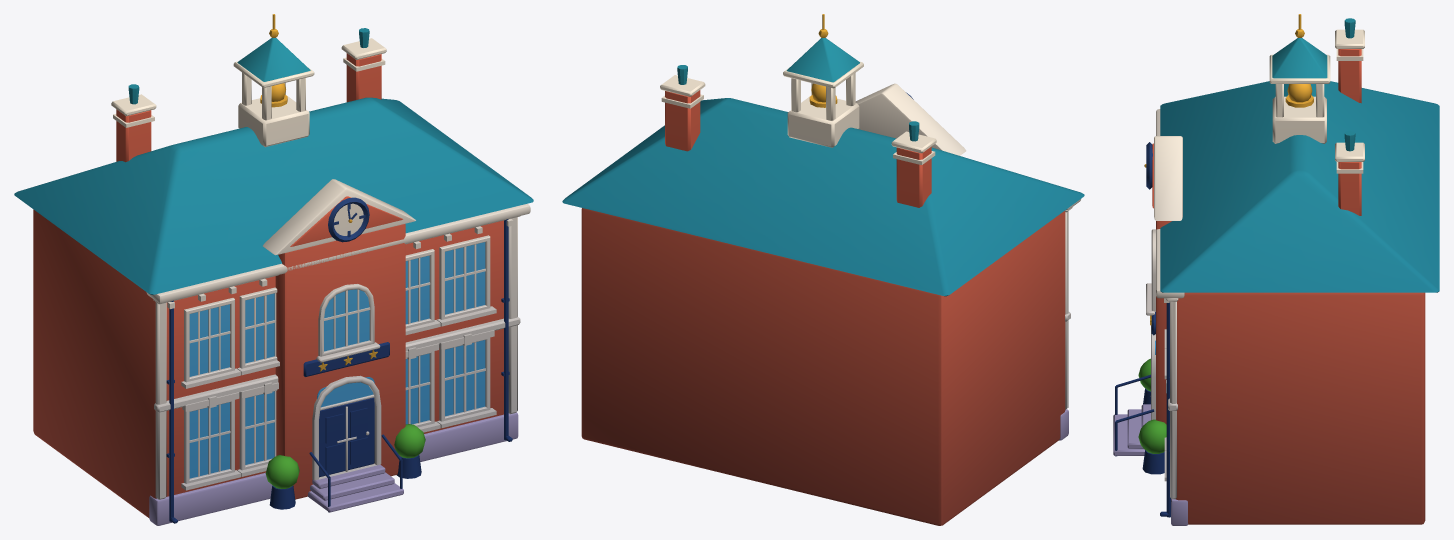
File: school.glb
3 renders of one model, left to right at view 1: azimuth 30°, elevation 25°; view 2: azimuth 150°, elevation 25°; view 3: azimuth 270°, elevation 25°, orthographic.
Parts seen in each view (by area): view 1: school; view 2: school; view 3: school.
Boxes of the visible parts, x1,y1,x2,y2 form: school: (14,14,533,525); school: (562,14,1084,525); school: (1113,14,1439,525).
Bounding box in the file's own units: 10.69 × 11.2 × 7.82.
